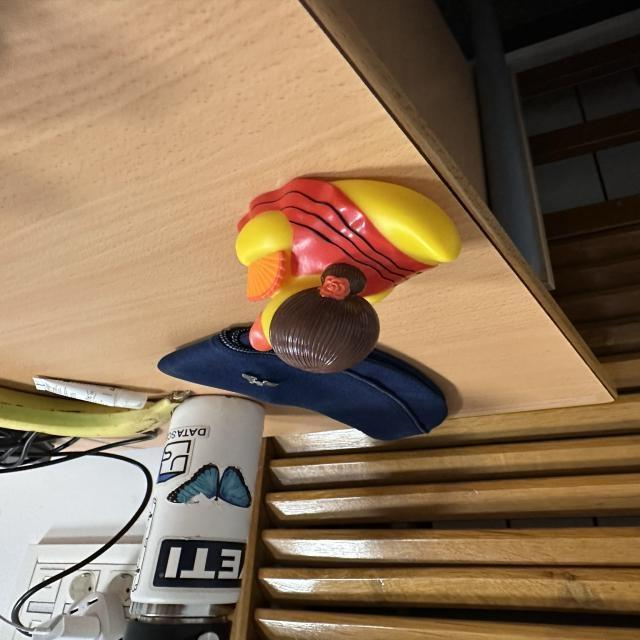rubber-duck: (234, 177, 459, 371)
